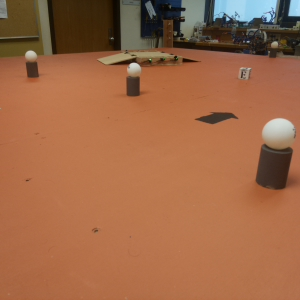blockE: (239, 66, 252, 84)
corner: (162, 21, 176, 48)
obstacle: (256, 117, 295, 191), (126, 63, 143, 99), (25, 51, 41, 81), (268, 42, 280, 60)
side: (136, 56, 184, 69)
slope: (97, 53, 136, 66), (183, 56, 201, 66)
start: (195, 110, 239, 127)
